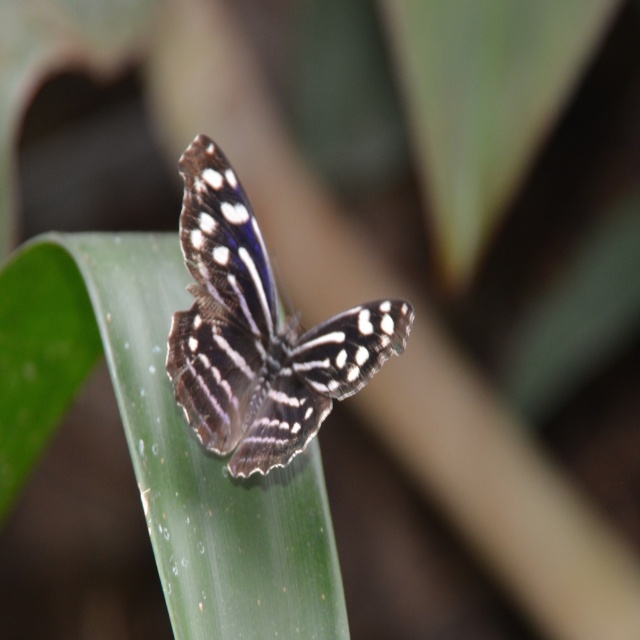Butterfly: (161, 124, 408, 509)
